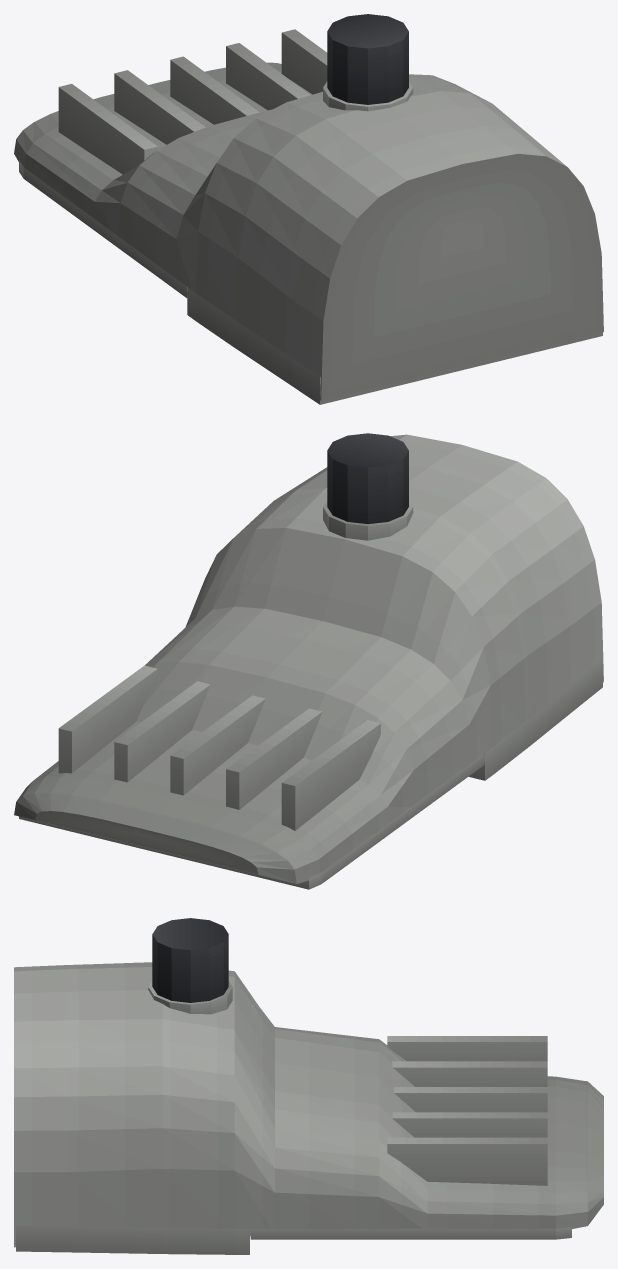
Rendered from streetlight_ltgc1v1.obj.
3 views of the same model, one above another, from view 1: azimuth 30°, elevation 25°; view 2: azimuth 150°, elevation 25°; view 3: azimuth 270°, elevation 25° (orthographic). The views are drawn at different scales.
Parts seen in each view (by area): view 1: fixture; view 2: fixture; view 3: fixture.
Part boxes in pixels (bbox=[...]): fixture: bbox=[14, 14, 603, 404]; fixture: bbox=[14, 433, 603, 889]; fixture: bbox=[14, 918, 603, 1254].
Size of the model in its own units: 0.5 by 0.4346 by 0.9187.
